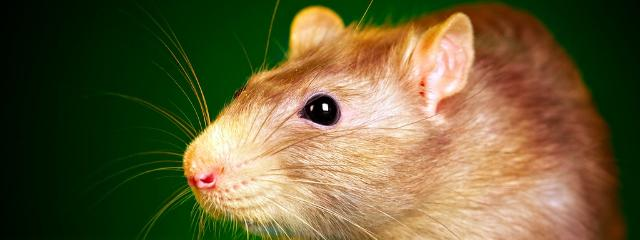rat: (144, 3, 626, 239)
